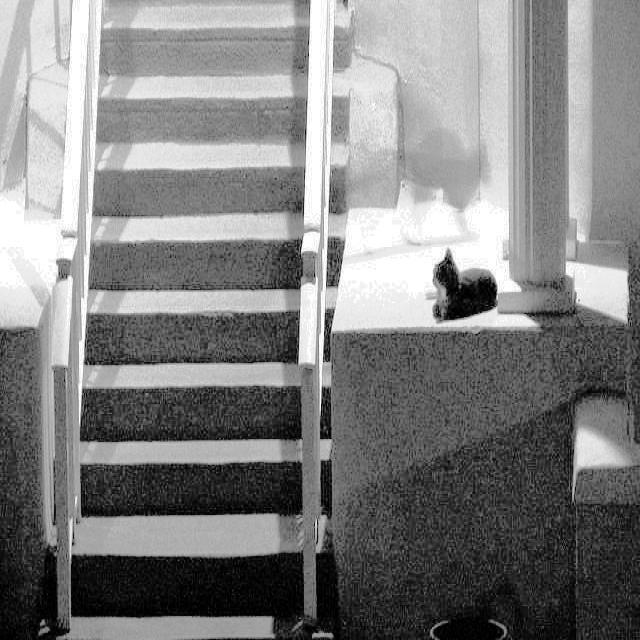Cat: (435, 223, 500, 357)
